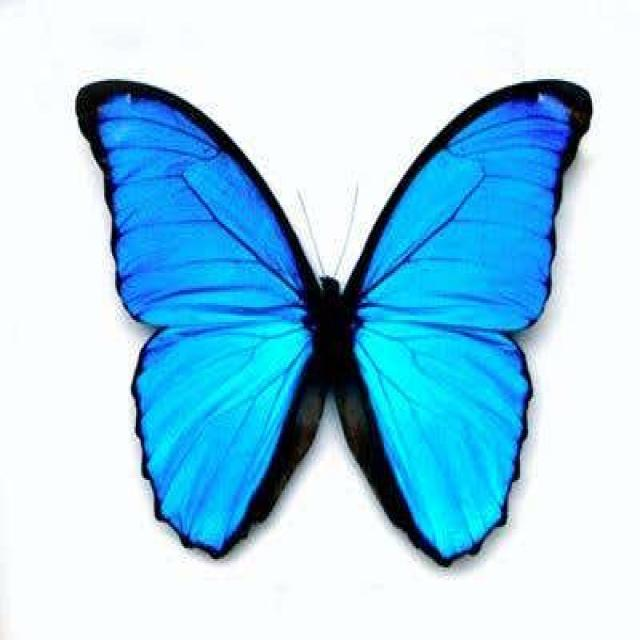butterfly: (122, 123, 523, 546)
